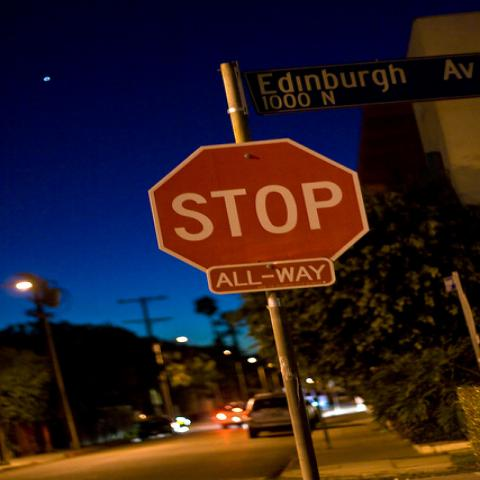car: (238, 393, 320, 438), (208, 402, 252, 430), (136, 418, 175, 442)
